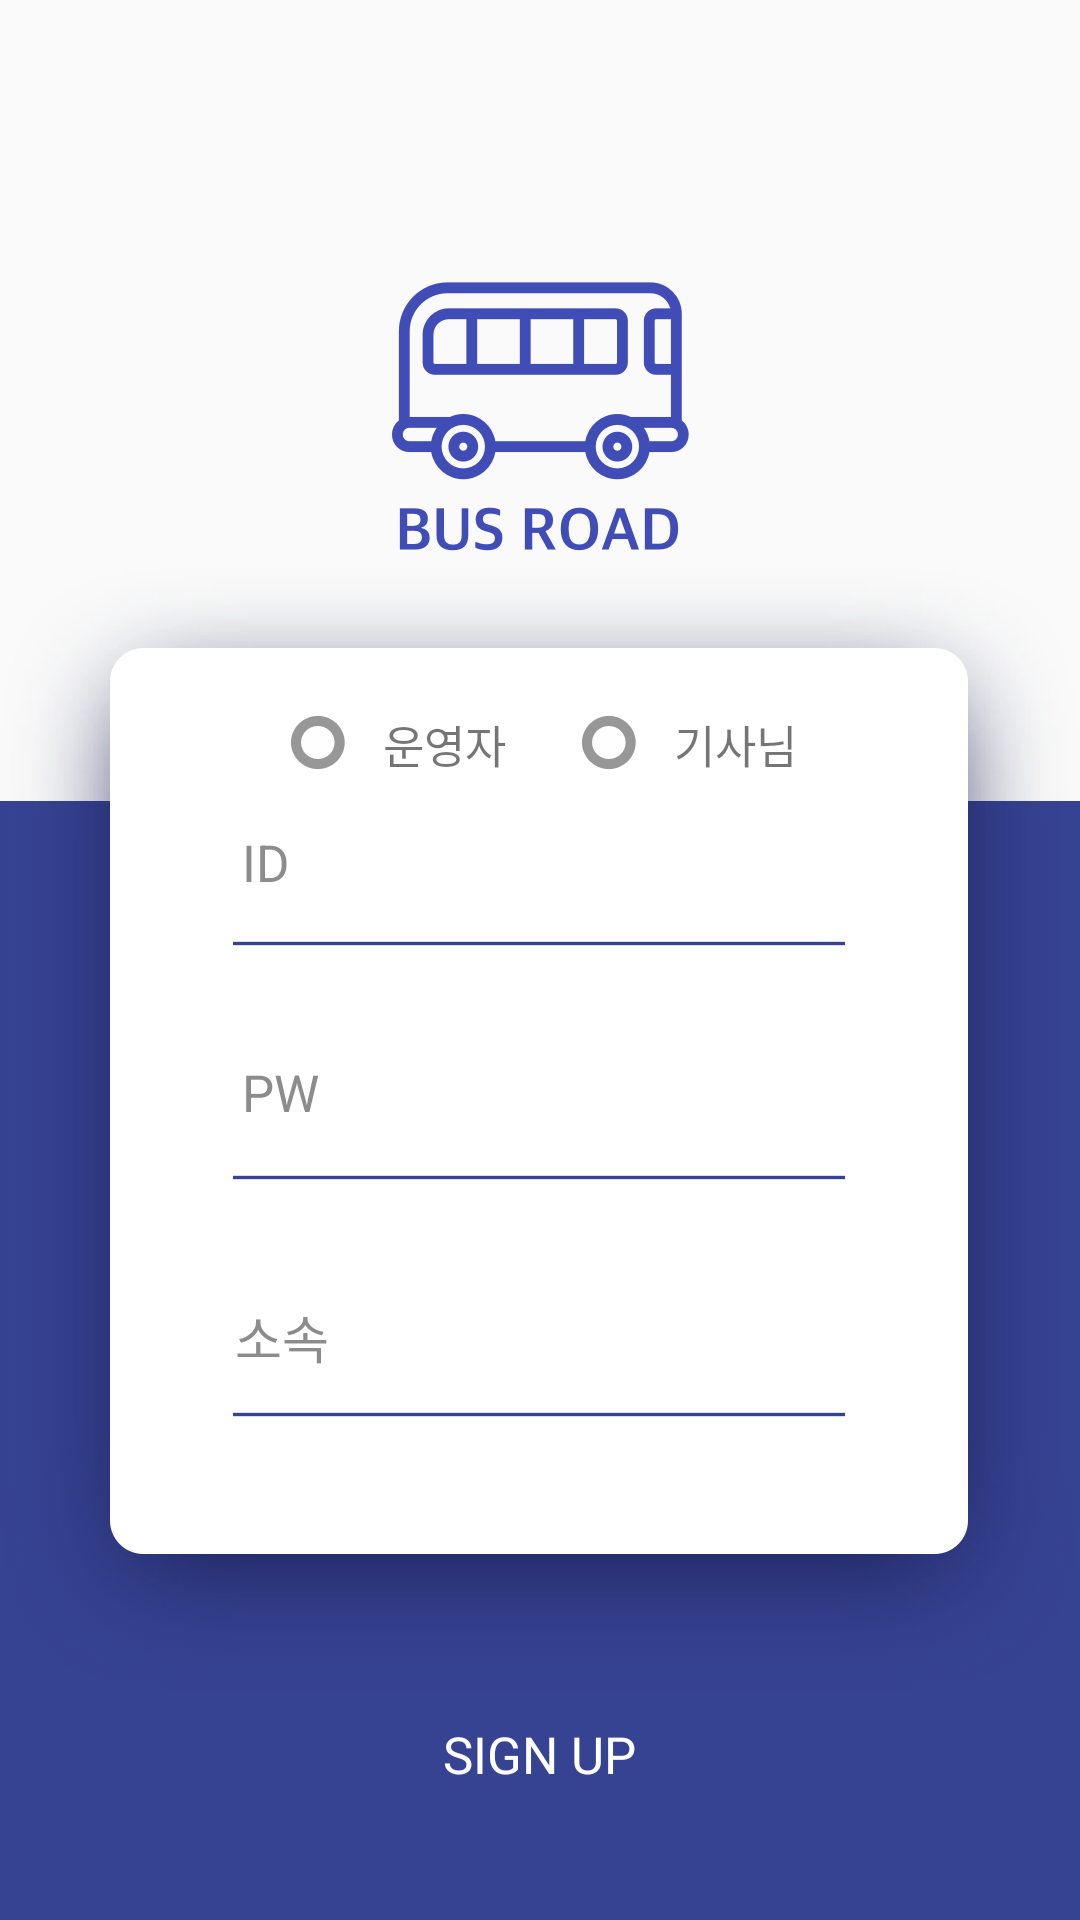

Named icons in this screenshot (1080 × 1920) and their bounding boxes, box=[x1, y1, x2, y2]:
choice: box=[291, 716, 345, 769], box=[582, 716, 636, 769]
